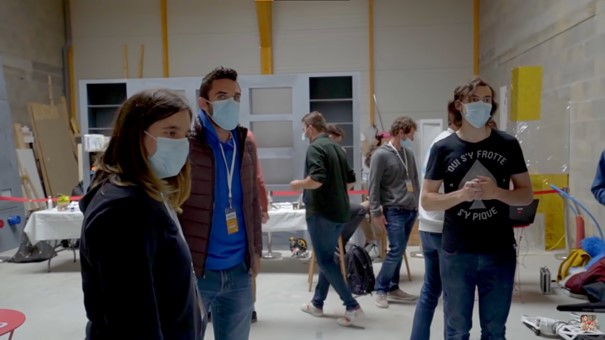with_mask: (144, 123, 194, 181), (203, 88, 240, 132), (455, 95, 499, 127)
